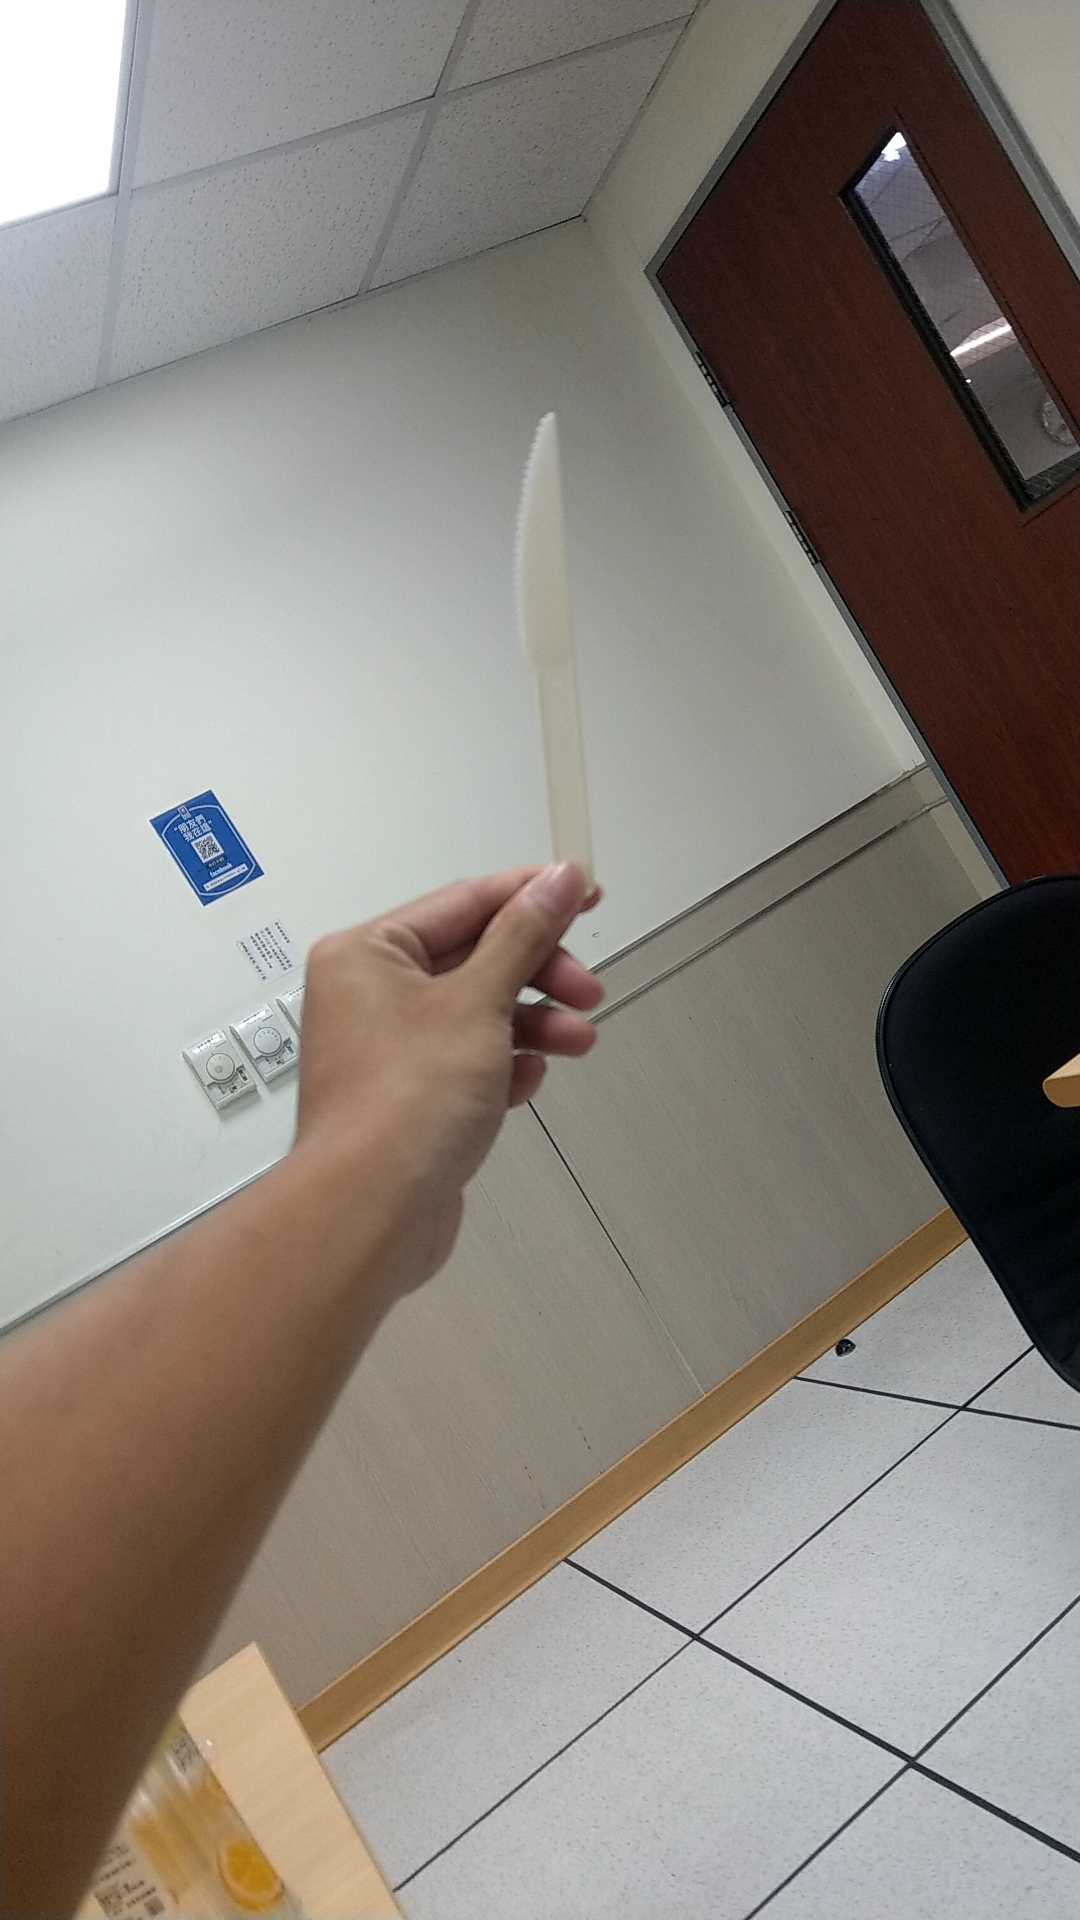knife: (497, 372, 633, 882)
